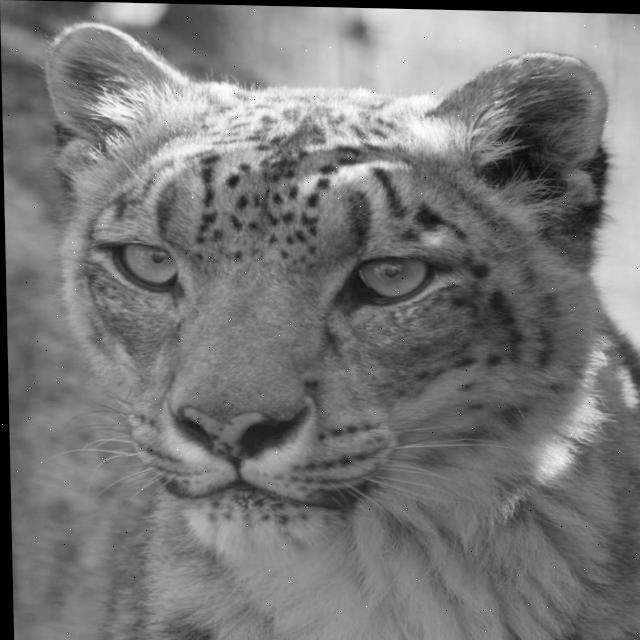Leopard: (17, 16, 640, 640)
